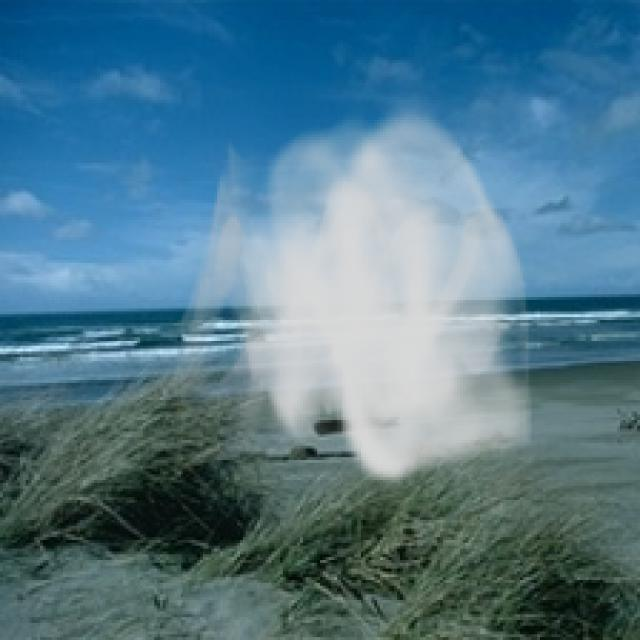Smoke: (168, 97, 543, 486)
